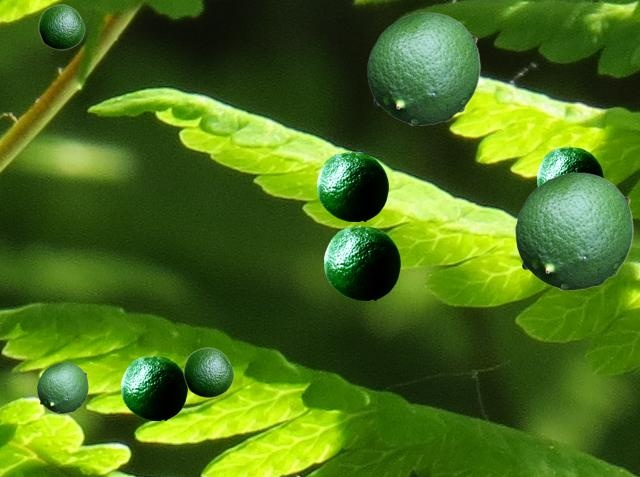calamansi: (515, 172, 632, 289), (367, 12, 479, 124), (324, 225, 399, 299), (317, 151, 387, 220), (121, 355, 186, 419), (537, 146, 602, 185), (37, 362, 87, 412), (183, 347, 233, 397), (38, 4, 84, 49)
